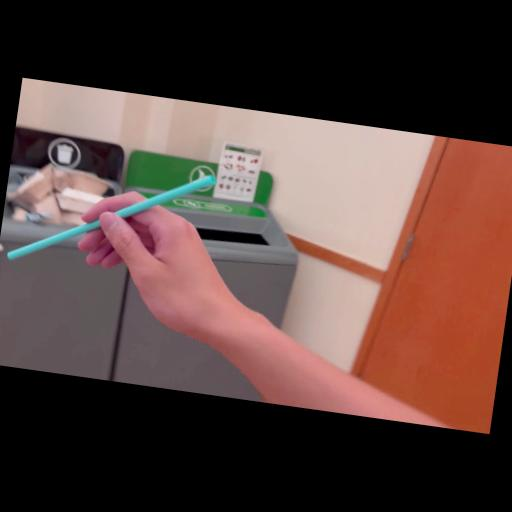straw: (8, 150, 216, 287)
